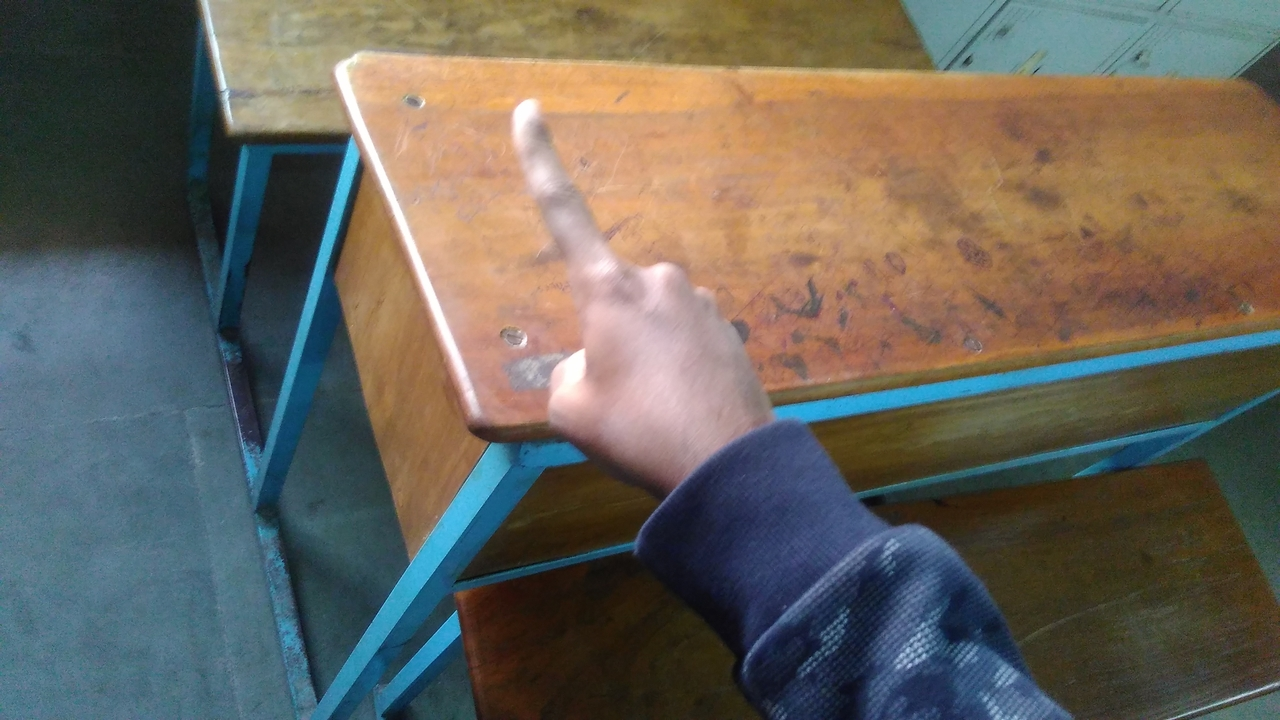fingertip: (498, 90, 556, 142)
